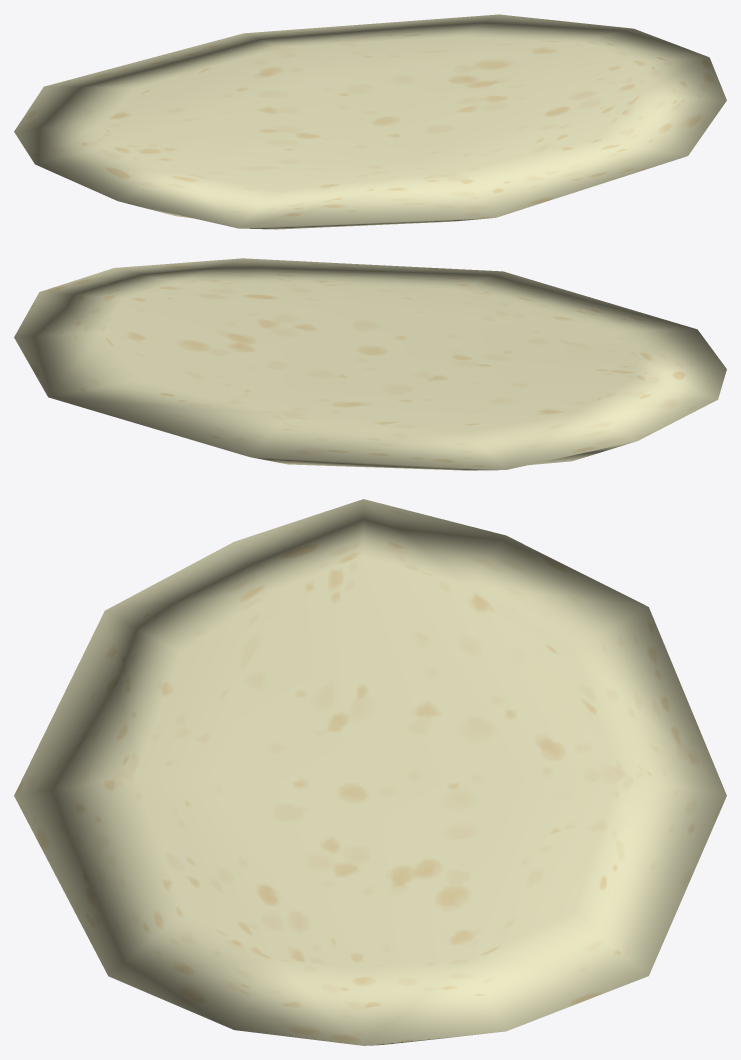
File: PotetiModele01.fbx
3 renders of one model, top to bottom at view 1: azimuth 30°, elevation 25°; view 2: azimuth 150°, elevation 25°; view 3: azimuth 270°, elevation 25°, orthographic. The views are drawn at different scales.
Visible parts, largest first — view 1: Poteti; view 2: Poteti; view 3: Poteti.
Part boxes in pixels (box(x1,y1,x2,y2)): Poteti: box(14, 14, 726, 229); Poteti: box(14, 258, 726, 470); Poteti: box(14, 499, 726, 1045).
Size of the model in its own units: 8.79 by 1.4 by 5.69.
